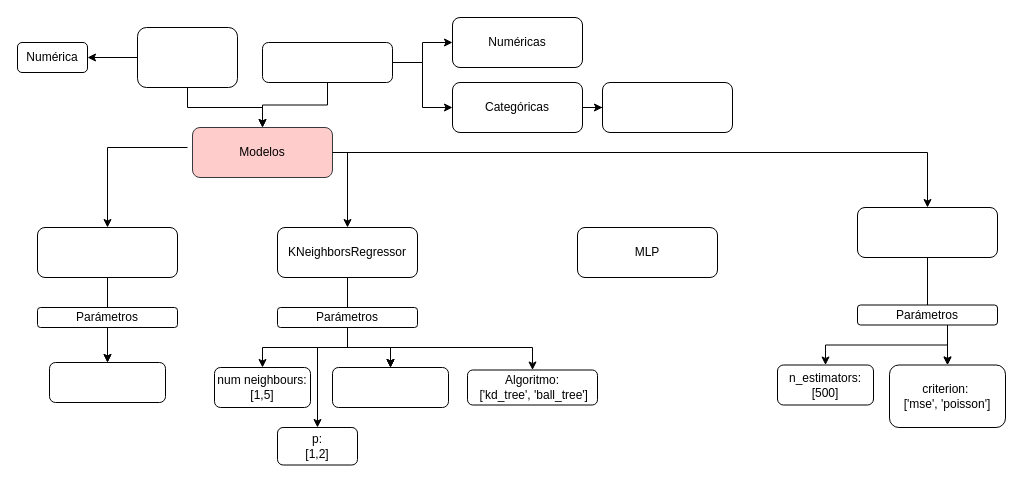
Some shapes in this 1023 by 483 pixel diagram are drawn without their labels. The shapes that lost their labels are listed below. From the top down, each one's centre as x and y in pixels, then its label:
At [187,57]: "Variable Objetivo: review_scores_raiting".
At [327,62]: "Variables explicativas".
At [667,107]: "one-hot-encoding".
At [107,252]: "Modelo de Regresión Lineal".
At [927,232]: "Random Forest Regressor".
At [107,382]: "normalize: [true, false]".
At [390,387]: "weights: ['uniform', 'distance']".
